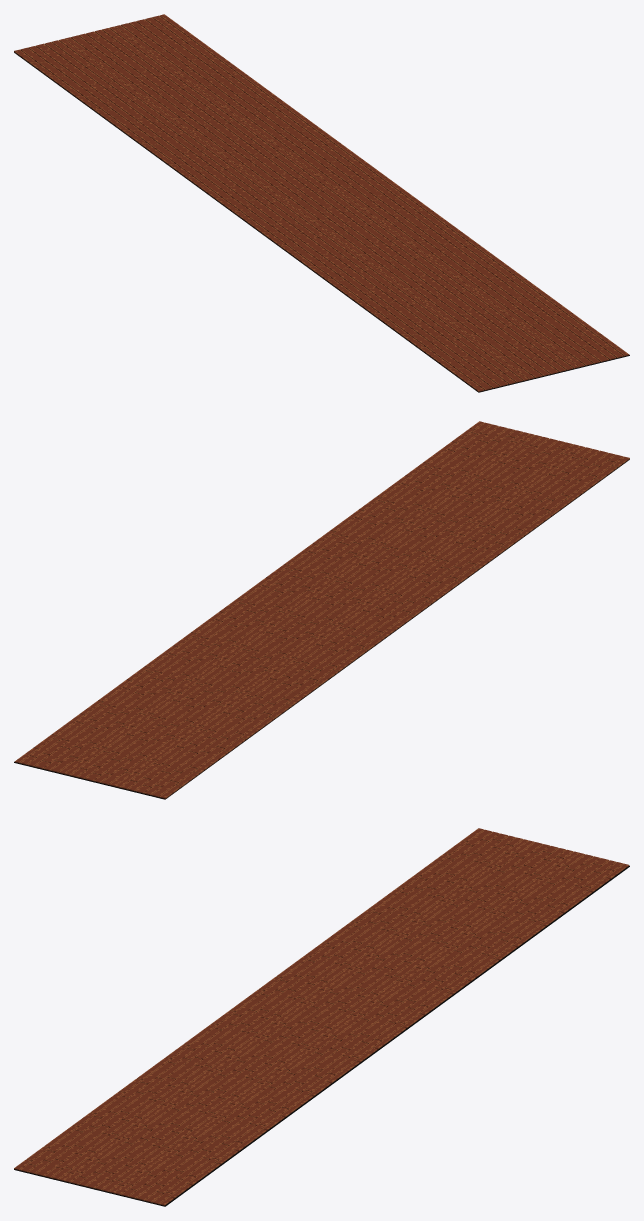
The model's file is floor.glb.
3 views of the same model, one above another, from view 1: azimuth 30°, elevation 25°; view 2: azimuth 150°, elevation 25°; view 3: azimuth 330°, elevation 25° (orthographic).
Visible parts, largest first — view 1: floor_tile.010; view 2: floor_tile.010; view 3: floor_tile.010.
Boxes of the visible parts, x1,y1,x2,y2 form: floor_tile.010: (14, 14, 629, 392); floor_tile.010: (14, 421, 629, 799); floor_tile.010: (14, 828, 629, 1206).
Size of the model in its own units: 60.16 by 0.64 by 320.
Materials: 1 (1 with a texture image).
